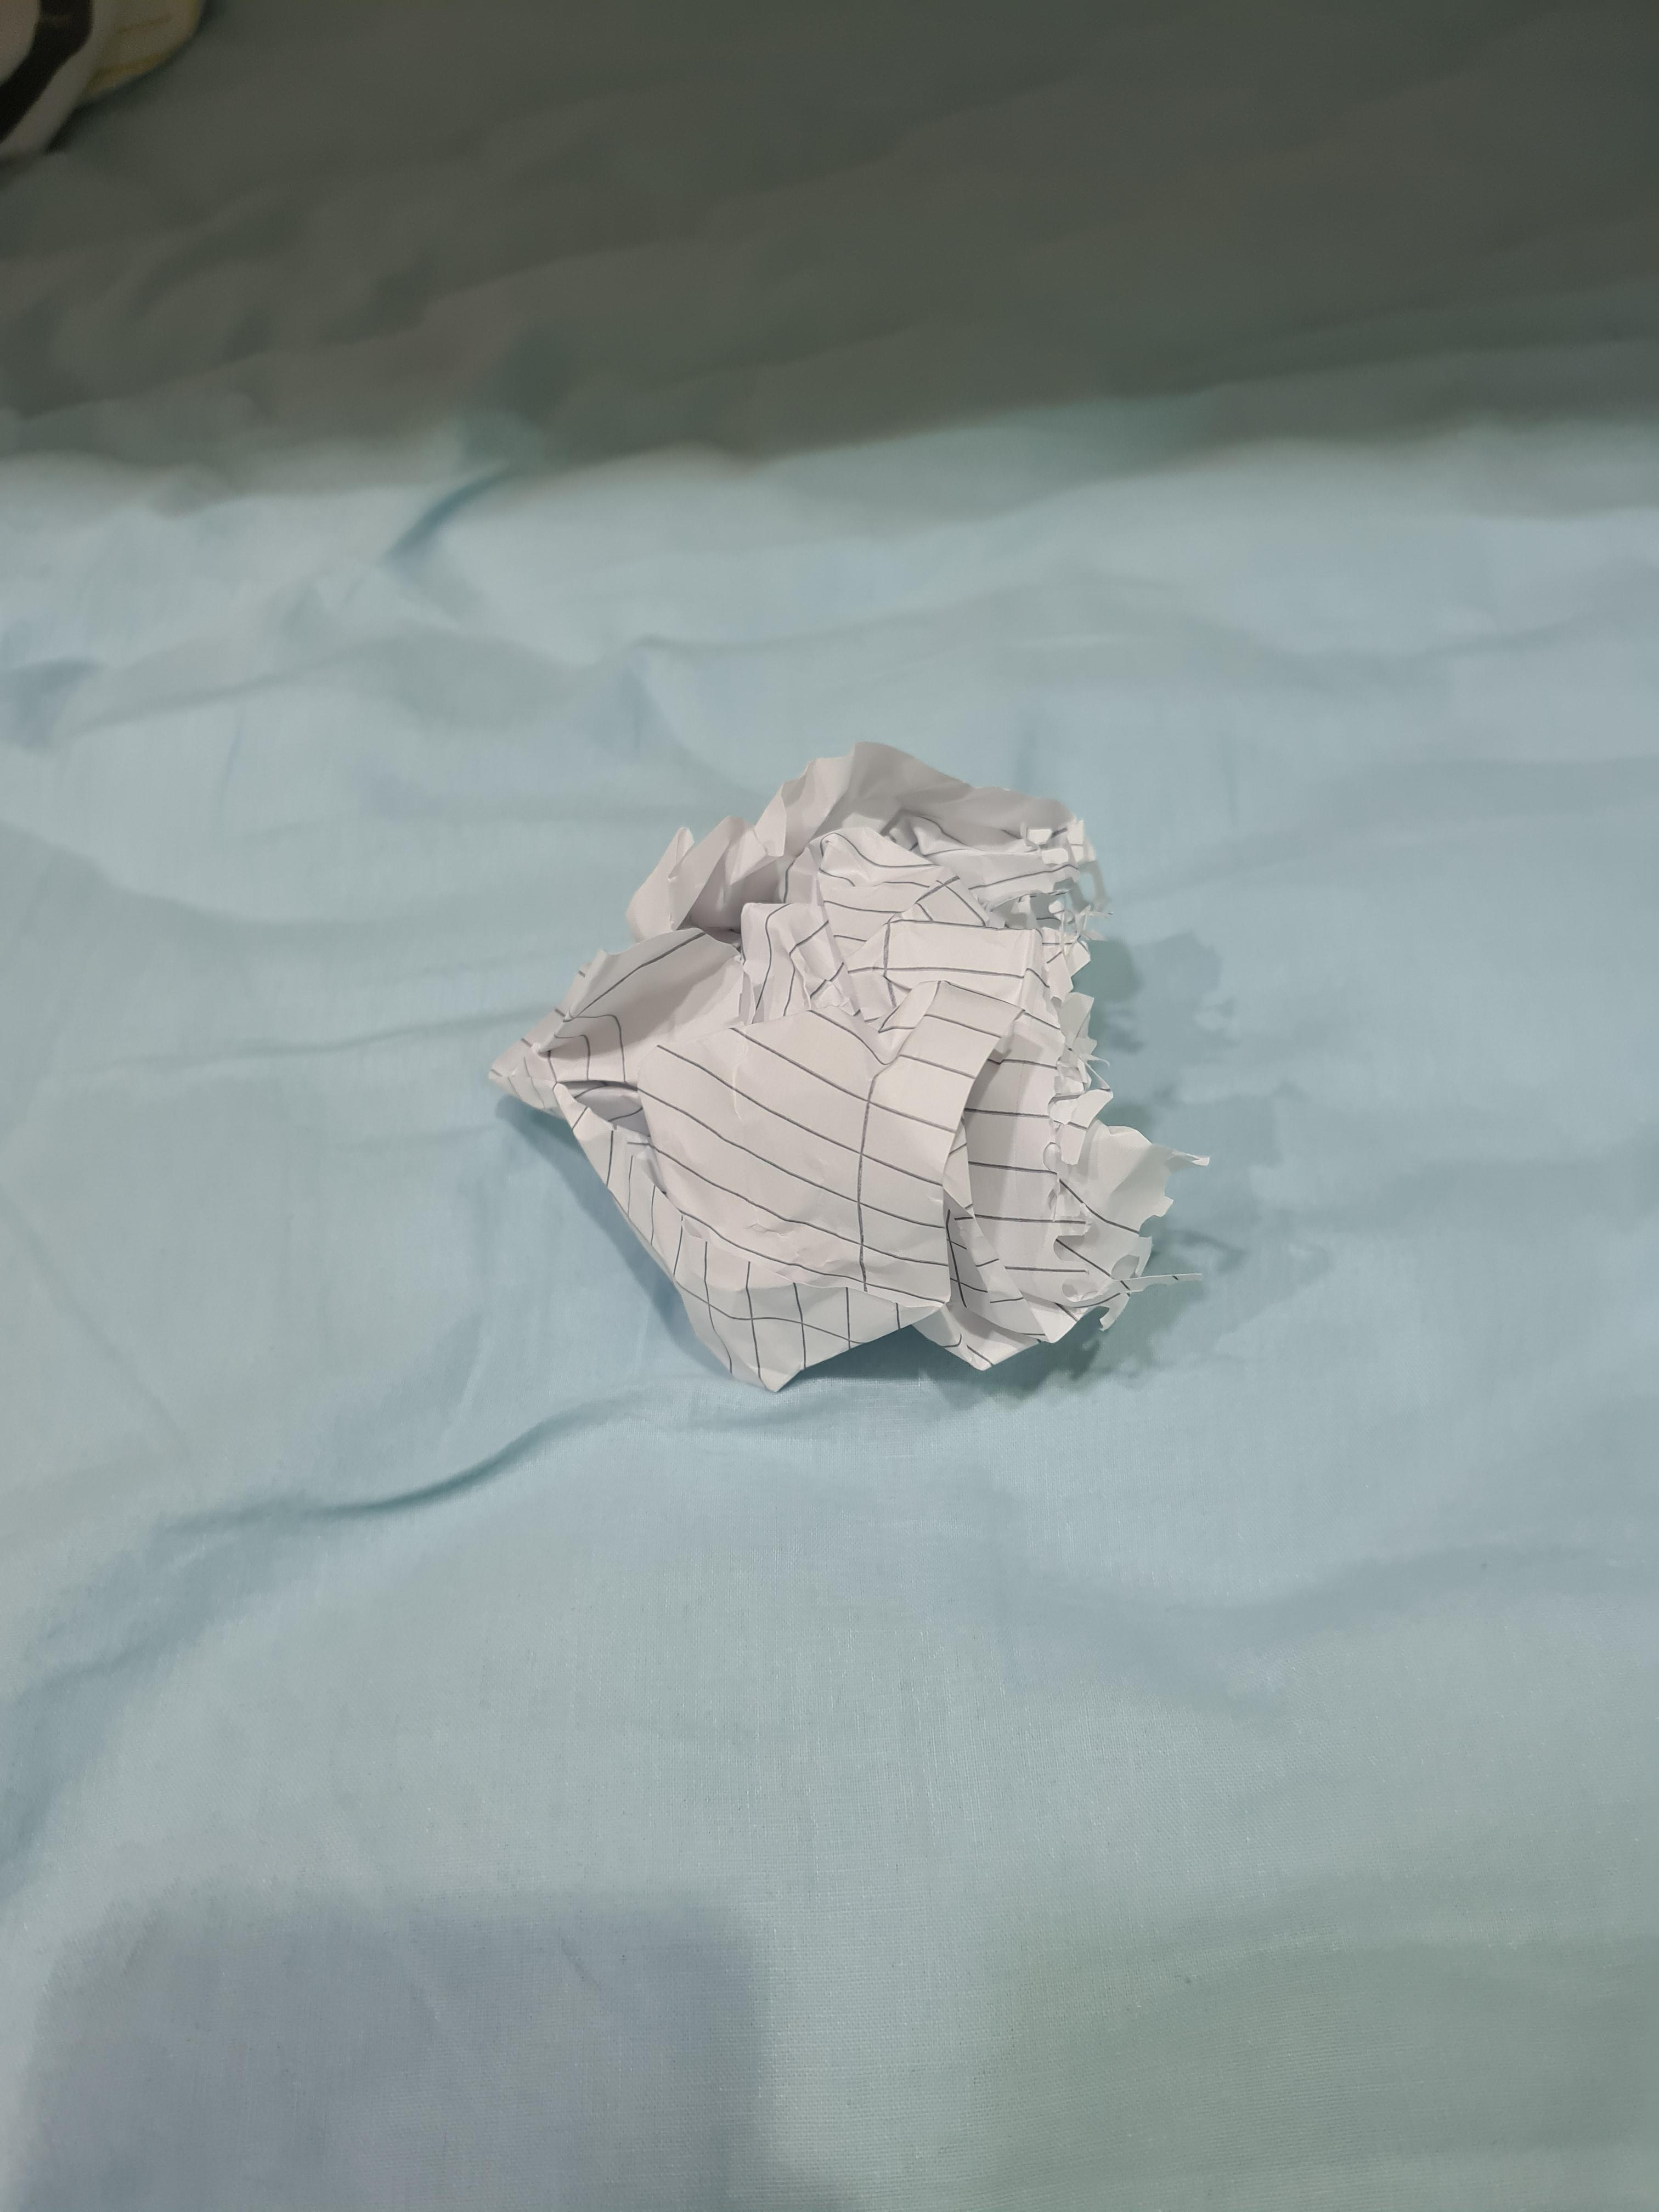Paper: (540, 758, 1158, 1390)
